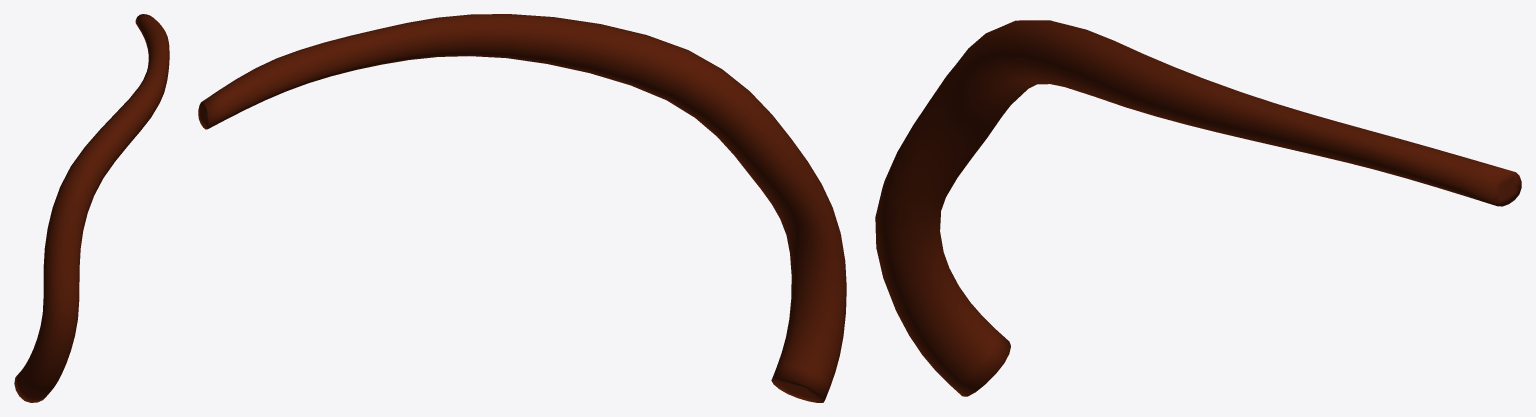
The model's file is branch-of-tree-cut.obj.
3 views of the same model, side by side, from view 1: azimuth 30°, elevation 25°; view 2: azimuth 150°, elevation 25°; view 3: azimuth 270°, elevation 25° (orthographic). The views are drawn at different scales.
Parts seen in each view (by area): view 1: BigTree.001_Cube.829; view 2: BigTree.001_Cube.829; view 3: BigTree.001_Cube.829.
Boxes of the visible parts, x1,y1,x2,y2 form: BigTree.001_Cube.829: (14, 14, 169, 402); BigTree.001_Cube.829: (198, 14, 846, 402); BigTree.001_Cube.829: (875, 20, 1521, 396).
Size of the model in its own units: 4.87 by 4.2 by 5.09.
